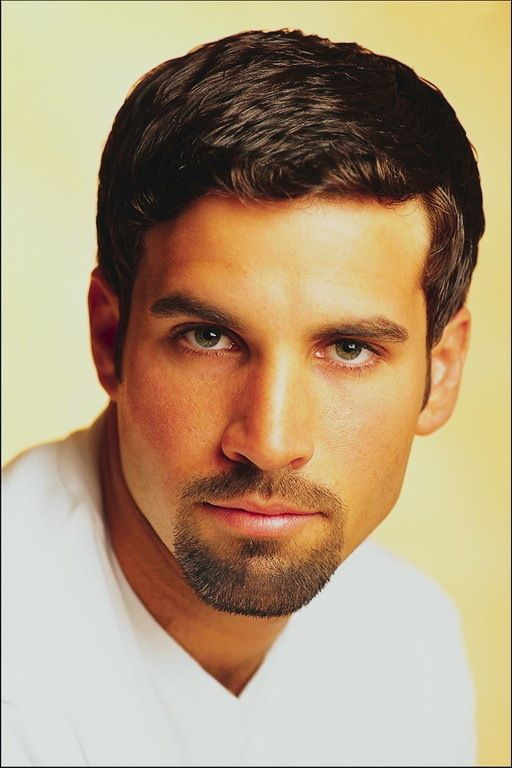beard: (165, 460, 363, 625)
